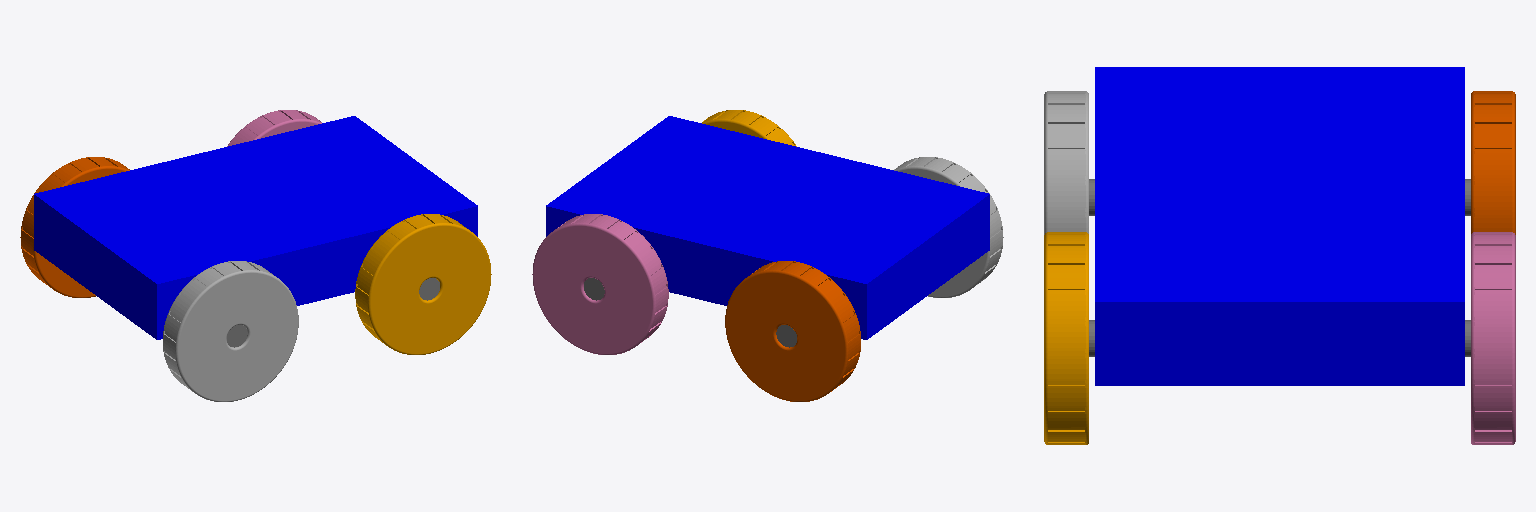
robot.urdf — farad_amr:
<?xml version="1.0"?>
<robot name="farad_amr">

<!-- Base link (chassis) -->
<link name="base_link">
<visual>
<geometry>
<box size="0.6 0.4 0.1"/>
</geometry>
<material name="blue">
<color rgba="0 0 1 1"/>
</material>
</visual>
<collision>
<geometry>
<box size="0.6 0.4 0.1"/>
</geometry>
</collision>
<inertial>
<mass value="10.0"/>
<inertia ixx="0.1" ixy="0.0" ixz="0.0" iyy="0.1" iyz="0.0" izz="0.1"/>
</inertial>
</link>




<!-- Left front shaft -->
<link name="left_front_shaft">
<visual>
<geometry>
<cylinder radius="0.02" length="0.10"/>
</geometry>
<origin xyz="0 0 0" rpy="1.5708 0 0"/>
<material name="gray">
<color rgba="0.5 0.5 0.5 1"/>
</material>
</visual>
<collision>
<geometry>
<cylinder radius="0.02" length="0.10"/>
</geometry>
<origin xyz="0 0 0" rpy="1.5708 0 0"/>
</collision>
<inertial>
<mass value="0.2"/>
<inertia ixx="0.01" ixy="0.0" ixz="0.0" iyy="0.01" iyz="0.0" izz="0.01"/>
</inertial>
</link>

<!-- Left rear shaft -->
<link name="left_rear_shaft">
<visual>
<geometry>
<cylinder radius="0.02" length="0.10"/>
</geometry>
<origin xyz="0 0 0" rpy="1.5708 0 0"/>
<material name="gray">
<color rgba="0.5 0.5 0.5 1"/>
</material>
</visual>
<collision>
<geometry>
<cylinder radius="0.02" length="0.10"/>
</geometry>
<origin xyz="0 0 0" rpy="1.5708 0 0"/>
</collision>
<inertial>
<mass value="0.2"/>
<inertia ixx="0.01" ixy="0.0" ixz="0.0" iyy="0.01" iyz="0.0" izz="0.01"/>
</inertial>
</link>

<!-- Right front shaft -->
<link name="right_front_shaft">
<visual>
<geometry>
<cylinder radius="0.02" length="0.10"/>
</geometry>
<origin xyz="0 0 0" rpy="1.5708 0 0"/>
<material name="gray">
<color rgba="0.5 0.5 0.5 1"/>
</material>
</visual>
<collision>
<geometry>
<cylinder radius="0.02" length="0.10"/>
</geometry>
<origin xyz="0 0 0" rpy="1.5708 0 0"/>
</collision>
<inertial>
<mass value="0.2"/>
<inertia ixx="0.01" ixy="0.0" ixz="0.0" iyy="0.01" iyz="0.0" izz="0.01"/>
</inertial>
</link>

<!-- Right rear shaft -->
<link name="right_rear_shaft">
<visual>
<geometry>
<cylinder radius="0.02" length="0.10"/>
</geometry>
<origin xyz="0 0 0" rpy="1.5708 0 0"/>
<material name="gray">
<color rgba="0.5 0.5 0.5 1"/>
</material>
</visual>
<collision>
<geometry>
<cylinder radius="0.02" length="0.10"/>
</geometry>
<origin xyz="0 0 0" rpy="1.5708 0 0"/>
</collision>
<inertial>
<mass value="0.2"/>
<inertia ixx="0.01" ixy="0.0" ixz="0.0" iyy="0.01" iyz="0.0" izz="0.01"/>
</inertial>
</link>



<!-- ================= TIRES (MESH) ================= -->

<!-- Left front tire (aligned with shaft, at +Y end) -->
<link name="left_front_tire">
	<inertial>
		<origin xyz="0 0 0"/>
		<mass value="1.0"/>
		<inertia ixx="0.02" iyy="0.02" izz="0.02" ixy="0" ixz="0" iyz="0"/>
	</inertial>
	<visual>
		<origin xyz="0 0.03 0" rpy="1.5708 0 0"/>
		<geometry>
			<mesh filename="tire_4.stl" scale="0.001 0.001 0.001"/>
		</geometry>
	</visual>
	<collision>
		<origin xyz="0 0.03 0" rpy="1.5708 0 0"/>
		<geometry>
			<mesh filename="tire_4.stl" scale="0.001 0.001 0.001"/>
		</geometry>
	</collision>
</link>

<!-- Left rear tire (aligned with shaft, at +Y end) -->
<link name="left_rear_tire">
	<inertial>
		<origin xyz="0 0 0"/>
		<mass value="1.0"/>
		<inertia ixx="0.02" iyy="0.02" izz="0.02" ixy="0" ixz="0" iyz="0"/>
	</inertial>
	<visual>
		<origin xyz="0 0.03 0" rpy="1.5708 0 0"/>
		<geometry>
			<mesh filename="tire_4.stl" scale="0.001 0.001 0.001"/>
		</geometry>
	</visual>
	<collision>
		<origin xyz="0 0.03 0" rpy="1.5708 0 0"/>
		<geometry>
			<mesh filename="tire_4.stl" scale="0.001 0.001 0.001"/>
		</geometry>
	</collision>
</link>

<!-- Right front tire (aligned with shaft, at +Y end) -->
<link name="right_front_tire">
	<inertial>
		<origin xyz="0 0 0"/>
		<mass value="1.0"/>
		<inertia ixx="0.02" iyy="0.02" izz="0.02" ixy="0" ixz="0" iyz="0"/>
	</inertial>
	<visual>
		<origin xyz="0 -0.03 0" rpy="1.5708 0 0"/>
		<geometry>
			<mesh filename="tire_4.stl" scale="0.001 0.001 0.001"/>
		</geometry>
	</visual>
	<collision>
		<origin xyz="0 -0.03 0" rpy="1.5708 0 0"/>
		<geometry>
			<mesh filename="tire_4.stl" scale="0.001 0.001 0.001"/>
		</geometry>
	</collision>
</link>

<!-- Right rear tire (aligned with shaft, at +Y end) -->
<link name="right_rear_tire">
	<inertial>
		<origin xyz="0 0 0"/>
		<mass value="1.0"/>
		<inertia ixx="0.02" iyy="0.02" izz="0.02" ixy="0" ixz="0" iyz="0"/>
	</inertial>
	<visual>
		<origin xyz="0 -0.03 0" rpy="1.5708 0 0"/>
		<geometry>
			<mesh filename="tire_4.stl" scale="0.001 0.001 0.001"/>
		</geometry>
	</visual>
	<collision>
		<origin xyz="0 -0.03 0" rpy="1.5708 0 0"/>
		<geometry>
			<mesh filename="tire_4.stl" scale="0.001 0.001 0.001"/>
		</geometry>
	</collision>
</link>



<!-- ================= SHAFTS AND TIRES ASSEMBLY ================= -->

<!-- Left front shaft (front left corner) -->
<joint name="base_link_to_left_front_shaft" type="fixed">
	<parent link="base_link"/>
	<child link="left_front_shaft"/>
	<origin xyz="-0.18 0.2 -0.05" rpy="0 0 0"/>
</joint>

<!-- Attach left front tire to shaft with continuous joint (rotates freely) -->
<joint name="left_front_shaft_to_tire" type="continuous">
	<parent link="left_front_shaft"/>
	<child link="left_front_tire"/>
	<!-- Tire is placed at end of shaft, so no offset needed -->
	<origin xyz="0 0 0" rpy="0 0 0"/>
	<axis xyz="0 1 0"/>
</joint>

<!-- Left rear shaft (rear left corner) -->
<joint name="base_link_to_left_rear_shaft" type="fixed">
	<parent link="base_link"/>
	<child link="left_rear_shaft"/>
	<origin xyz="0.18 0.2 -0.05" rpy="0 0 0"/>
</joint>

<!-- Attach left rear tire to shaft with continuous joint -->
<joint name="left_rear_shaft_to_tire" type="continuous">
	<parent link="left_rear_shaft"/>
	<child link="left_rear_tire"/>
	<origin xyz="0 0 0" rpy="0 0 0"/>
	<axis xyz="0 1 0"/>
</joint>

<!-- Right front shaft (front right corner) -->
<joint name="base_link_to_right_front_shaft" type="fixed">
	<parent link="base_link"/>
	<child link="right_front_shaft"/>
	<origin xyz="-0.18 -0.2 -0.05" rpy="0 0 0"/>
</joint>

<!-- Attach right front tire to shaft with continuous joint -->
<joint name="right_front_shaft_to_tire" type="continuous">
	<parent link="right_front_shaft"/>
	<child link="right_front_tire"/>
	<origin xyz="0 0 0" rpy="0 0 0"/>
	<axis xyz="0 1 0"/>
</joint>

<!-- Right rear shaft (rear right corner) -->
<joint name="base_link_to_right_rear_shaft" type="fixed">
	<parent link="base_link"/>
	<child link="right_rear_shaft"/>
	<origin xyz="0.18 -0.2 -0.05" rpy="0 0 0"/>
</joint>

<!-- Attach right rear tire to shaft with continuous joint -->
<joint name="right_rear_shaft_to_tire" type="continuous">
	<parent link="right_rear_shaft"/>
	<child link="right_rear_tire"/>
	<origin xyz="0 0 0" rpy="0 0 0"/>
	<axis xyz="0 1 0"/>
</joint>

</robot>

--- Facts derived from the render (not from the file) ---
The picture shows the robot from 3 angles, left to right: view 1: azimuth 30°, elevation 25°; view 2: azimuth 150°, elevation 25°; view 3: azimuth 270°, elevation 25°; orthographic projection.
Model farad_amr with 9 links and 8 joints (4 continuous, 4 fixed), rooted at base_link, posed all joints at 0.
Visible links, largest first — view 1: base_link, right_front_tire, right_rear_tire, left_front_tire, left_rear_tire; view 2: base_link, left_front_tire, left_rear_tire, right_front_tire, right_rear_tire; view 3: base_link, left_rear_tire, right_rear_tire, left_front_tire, right_front_tire.
Link boxes in pixels (x1=…): base_link: x1=34, y1=116, x2=477, y2=339; right_front_tire: x1=163, y1=261, x2=298, y2=401; right_rear_tire: x1=355, y1=214, x2=491, y2=354; left_front_tire: x1=20, y1=157, x2=129, y2=297; left_rear_tire: x1=227, y1=110, x2=321, y2=146; base_link: x1=546, y1=116, x2=989, y2=339; left_front_tire: x1=725, y1=261, x2=860, y2=401; left_rear_tire: x1=532, y1=214, x2=668, y2=354; right_front_tire: x1=894, y1=157, x2=1003, y2=297; right_rear_tire: x1=702, y1=110, x2=796, y2=146; base_link: x1=1095, y1=67, x2=1464, y2=385; left_rear_tire: x1=1471, y1=232, x2=1515, y2=444; right_rear_tire: x1=1044, y1=232, x2=1088, y2=444; left_front_tire: x1=1471, y1=91, x2=1515, y2=234; right_front_tire: x1=1044, y1=91, x2=1088, y2=234.
Bounding box of the posed robot: 0.6 × 0.5083 × 0.23 m (x, y, z).
Meshes: 1 distinct files referenced, 4 mesh visuals loaded (1 binary STL).
